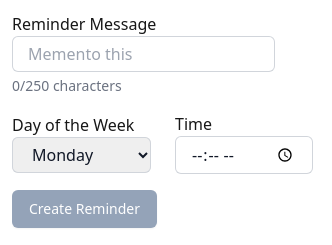
Scenario: ReminderForm › disables submit button when message is empty
The width and height of the screenshot is (332, 245).
Expected: the button "Create Reminder" is disabled, [12,190,157,228]
Type "Test" into the field labelled "Reminder Message" at (144, 54), box [12,36,275,72]
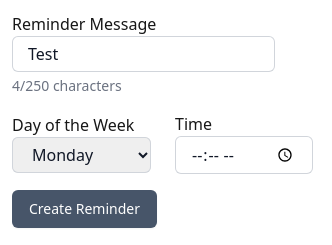
Expected: the button "Create Reminder" is enabled, [12,190,157,228]
